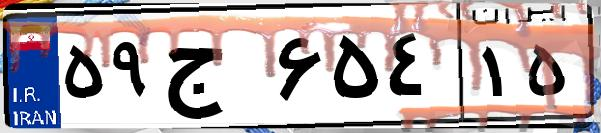1: (475, 38, 525, 113)
4: (385, 28, 445, 110)
5: (330, 28, 385, 110), (57, 26, 110, 100), (525, 38, 570, 115)
6: (270, 28, 330, 110)
9: (110, 28, 158, 98)
ج: (158, 20, 270, 120)
